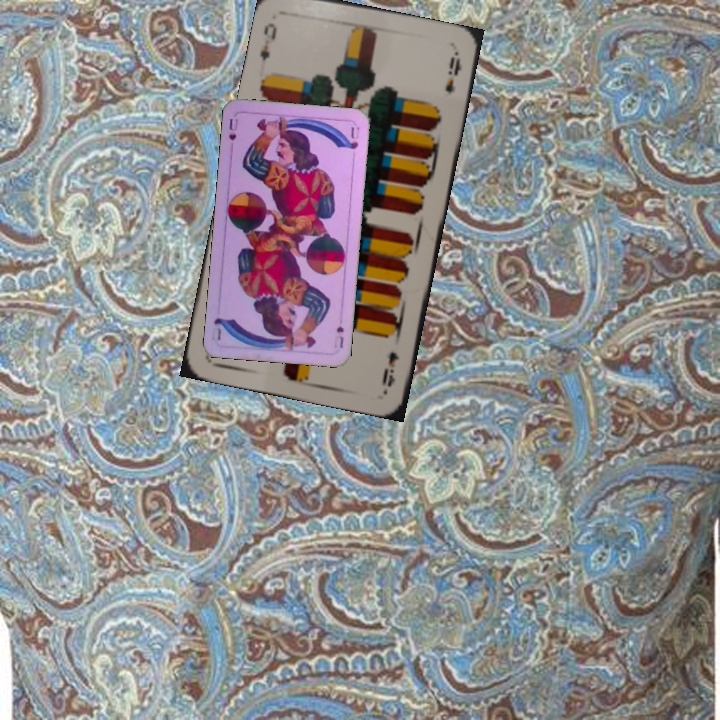E9: (256, 18, 280, 64), (378, 347, 402, 389)
SU: (225, 114, 241, 153), (332, 322, 346, 351)
